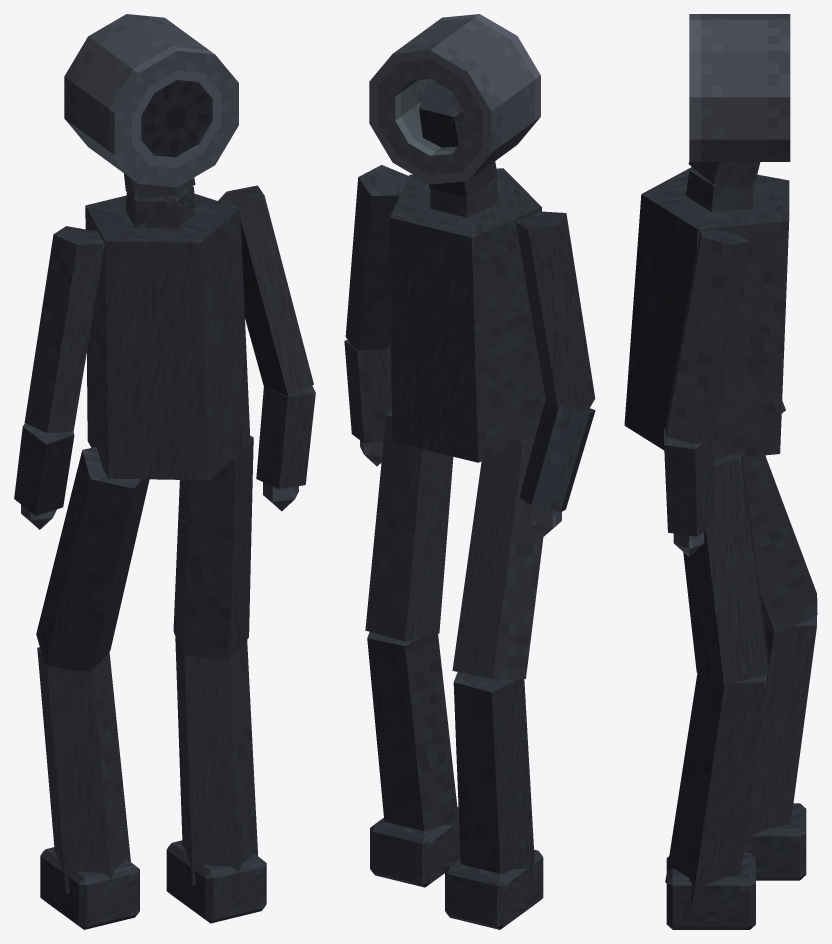
The model's file is f_glassedbody_8.glb.
3 views of the same model, side by side, from view 1: azimuth 30°, elevation 25°; view 2: azimuth 150°, elevation 25°; view 3: azimuth 270°, elevation 25° (orthographic).
Parts seen in each view (by area): view 1: block_angular-torso-1, block_faceted-glass-leg-1 (×2), block_faceted-glass-leg-2 (×2), block_angular-glass-arm-1 (×2), block_solid-glass-foot (×2), block_angular-glass-arm-2 (×2), block_smooth-recess-interior, block_smooth-scooped-head-recess-outer-3, block_smooth-scooped-head-recess-outer-2, block_smooth-scooped-head-recess-outer-4, block_vitrified-neck-1, block_smooth-scooped-head-recess-outer-1 (+11 smaller); view 2: block_angular-torso-1, block_faceted-glass-leg-2 (×2), block_faceted-glass-leg-1 (×2), block_angular-glass-arm-1 (×2), block_solid-glass-foot (×2), block_angular-glass-arm-2 (×2), block_vitrified-neck-2, block_smooth-scooped-head-recess-outer-3, block_smooth-scooped-head-recess-outer-2, block_smooth-scooped-head-recess-outer-4, block_vitrified-neck-1, block_smooth-scooped-head-recess-outer-1 (+14 smaller); view 3: block_angular-torso-1, block_faceted-glass-leg-1 (×2), block_faceted-glass-leg-2 (×2), block_angular-glass-arm-1, block_solid-glass-foot (×2), block_smooth-scooped-head-recess-outer-0, block_angular-glass-arm-2, block_smooth-scooped-head-recess-outer-9, block_smooth-scooped-head-recess-outer-1, block_smooth-scooped-head-recess-outer-8, block_vitrified-neck-1, block_vitrified-neck-2 (+2 smaller).
Part boxes in pixels (x1=…): block_angular-torso-1: x1=85, y1=194, x2=250, y2=480; block_faceted-glass-leg-1 (×2): x1=37, y1=637, x2=257, y2=893; block_faceted-glass-leg-2 (×2): x1=36, y1=436, x2=253, y2=671; block_angular-glass-arm-1 (×2): x1=24, y1=185, x2=313, y2=433; block_solid-glass-foot (×2): x1=40, y1=840, x2=266, y2=929; block_angular-glass-arm-2 (×2): x1=14, y1=385, x2=315, y2=515; block_smooth-recess-interior: x1=141, y1=80, x2=211, y2=157; block_smooth-scooped-head-recess-outer-3: x1=64, y1=36, x2=138, y2=112; block_smooth-scooped-head-recess-outer-2: x1=88, y1=14, x2=176, y2=72; block_smooth-scooped-head-recess-outer-4: x1=64, y1=76, x2=114, y2=154; block_vitrified-neck-1: x1=126, y1=186, x2=196, y2=228; block_smooth-scooped-head-recess-outer-1: x1=127, y1=14, x2=214, y2=54; block_angular-torso-1: x1=390, y1=168, x2=545, y2=462; block_faceted-glass-leg-2 (×2): x1=365, y1=406, x2=543, y2=679; block_faceted-glass-leg-1 (×2): x1=367, y1=632, x2=535, y2=883; block_angular-glass-arm-1 (×2): x1=345, y1=165, x2=595, y2=410; block_solid-glass-foot (×2): x1=370, y1=807, x2=543, y2=929; block_angular-glass-arm-2 (×2): x1=344, y1=340, x2=595, y2=512; block_vitrified-neck-2: x1=419, y1=82, x2=497, y2=197; block_smooth-scooped-head-recess-outer-3: x1=468, y1=36, x2=540, y2=111; block_smooth-scooped-head-recess-outer-2: x1=430, y1=14, x2=516, y2=71; block_smooth-scooped-head-recess-outer-4: x1=491, y1=75, x2=540, y2=152; block_vitrified-neck-1: x1=430, y1=179, x2=498, y2=217; block_smooth-scooped-head-recess-outer-1: x1=393, y1=14, x2=479, y2=53; block_angular-torso-1: x1=624, y1=167, x2=789, y2=458; block_faceted-glass-leg-1 (×2): x1=665, y1=615, x2=816, y2=902; block_faceted-glass-leg-2 (×2): x1=683, y1=453, x2=817, y2=684; block_angular-glass-arm-1: x1=665, y1=229, x2=749, y2=443; block_solid-glass-foot (×2): x1=666, y1=803, x2=806, y2=929; block_smooth-scooped-head-recess-outer-0: x1=689, y1=51, x2=790, y2=97; block_angular-glass-arm-2: x1=664, y1=428, x2=715, y2=536; block_smooth-scooped-head-recess-outer-9: x1=689, y1=97, x2=790, y2=139; block_smooth-scooped-head-recess-outer-1: x1=689, y1=19, x2=790, y2=51; block_smooth-scooped-head-recess-outer-8: x1=689, y1=139, x2=790, y2=161; block_vitrified-neck-1: x1=686, y1=168, x2=752, y2=211; block_vitrified-neck-2: x1=688, y1=162, x2=760, y2=187.
Bounding box in the file's own units: 0.5498 × 1.71 × 0.3428.
2 materials, 2 textured.
